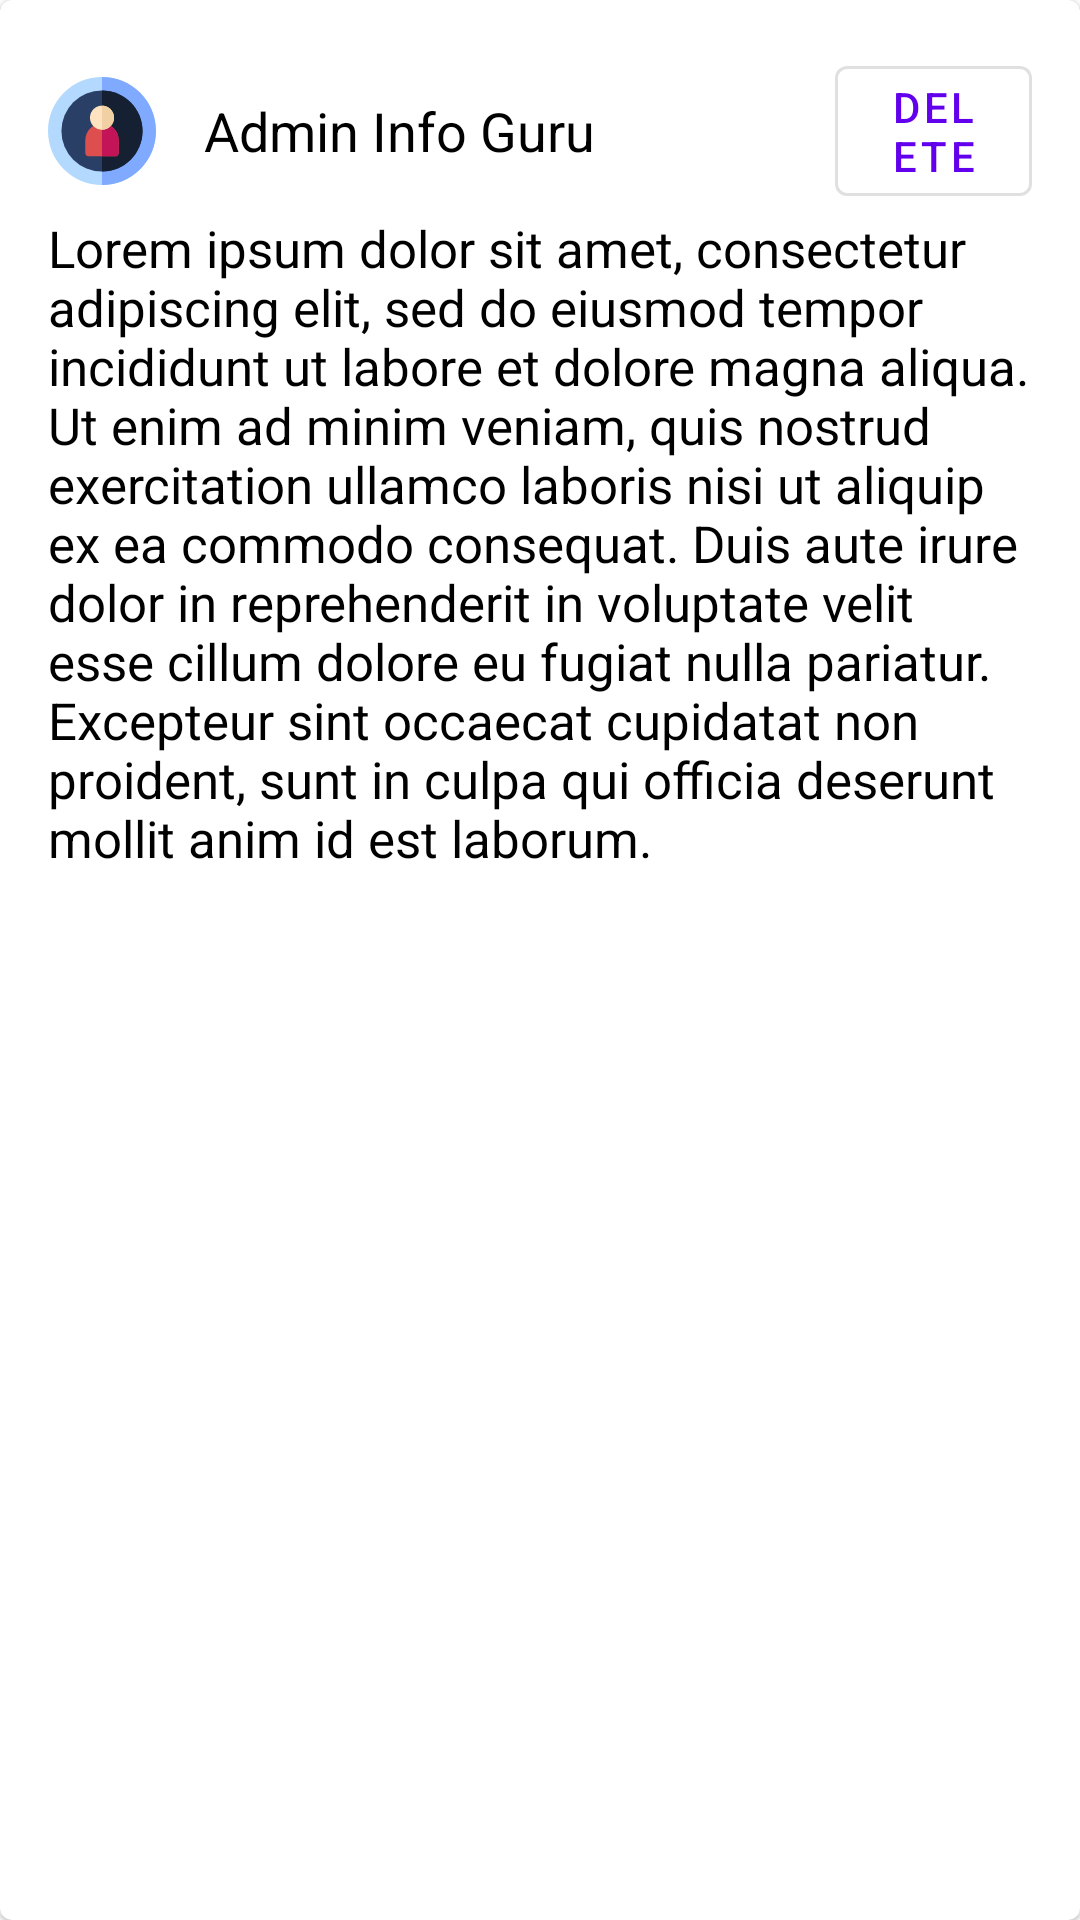

Screen size 1080px x 1920px. Icon name, then its center in pixels as (x,y):
user: (102,131)
